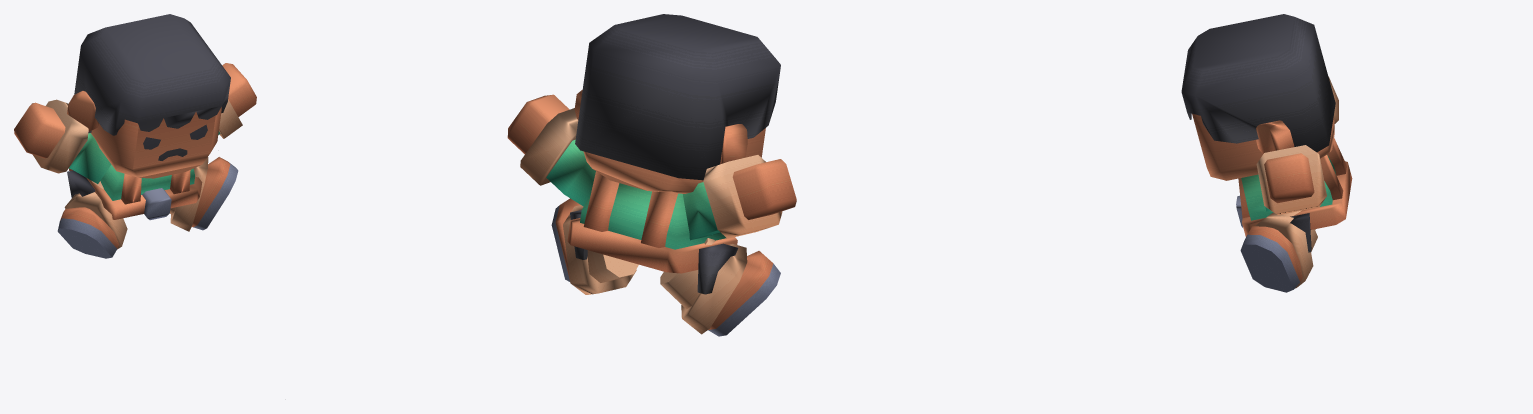
Rendered from crowdA_fall_0.glb.
3 renders of one model, left to right at view 1: azimuth 30°, elevation 25°; view 2: azimuth 150°, elevation 25°; view 3: azimuth 270°, elevation 25°, orthographic. The views are drawn at different scales.
Parts seen in each view (by area): view 1: crowdA-fall-0; view 2: crowdA-fall-0; view 3: crowdA-fall-0.
Boxes of the visible parts, left/top/right/bottom form: crowdA-fall-0: left=14, top=14, right=256, bottom=258; crowdA-fall-0: left=507, top=14, right=796, bottom=336; crowdA-fall-0: left=1181, top=14, right=1352, bottom=292.
Bounding box in the file's own units: 1.2 × 0.7755 × 1.2.
1 material, 1 textured.
